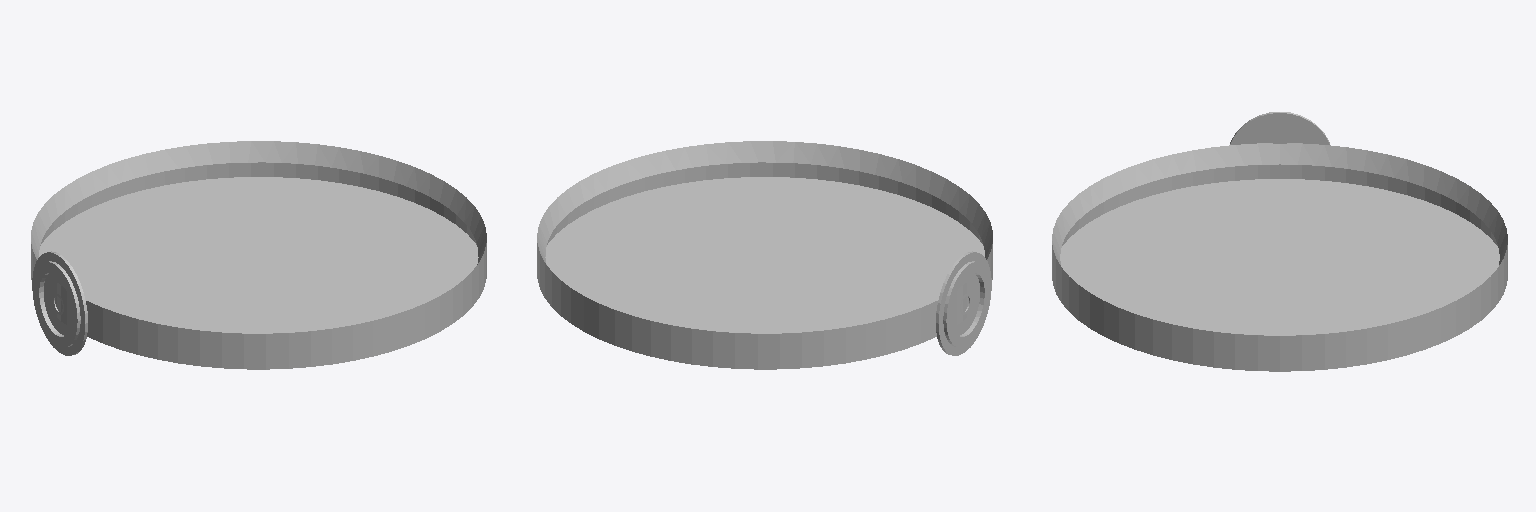
File: PokeBlack.obj
The picture shows the model from 3 angles: view 1: azimuth 30°, elevation 25°; view 2: azimuth 150°, elevation 25°; view 3: azimuth 270°, elevation 25°; orthographic projection.
Visible parts, largest first — view 1: PokeBlack; view 2: PokeBlack; view 3: PokeBlack.
Part boxes in pixels (left/top/right/bottom): PokeBlack: left=31, top=141, right=486, bottom=369; PokeBlack: left=537, top=141, right=992, bottom=369; PokeBlack: left=1052, top=112, right=1507, bottom=371.
Bounding box in the file's own units: 211 × 48.44 × 208.